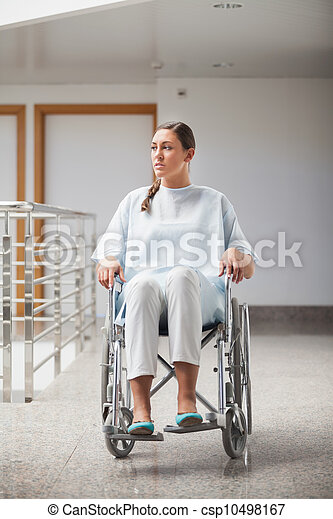wheelchair: (91, 122, 254, 459)
